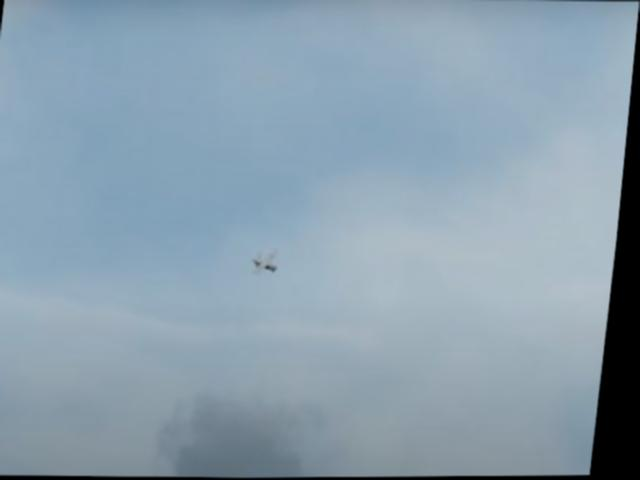uav: (250, 246, 287, 283)
